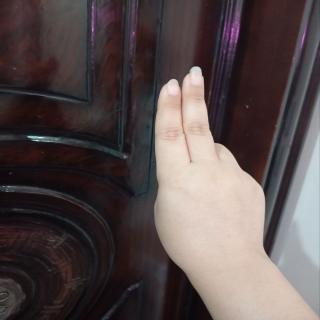TA: (134, 64, 282, 298)
